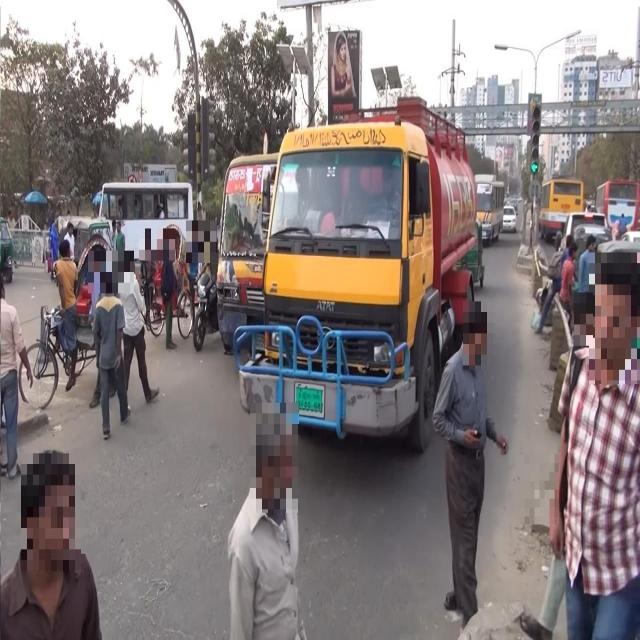bus: (214, 150, 279, 336), (89, 174, 192, 279), (592, 175, 640, 228), (541, 168, 584, 218), (475, 170, 505, 241)
car: (504, 195, 516, 235)
motorbike: (183, 268, 222, 349)
truck: (255, 98, 479, 454)
